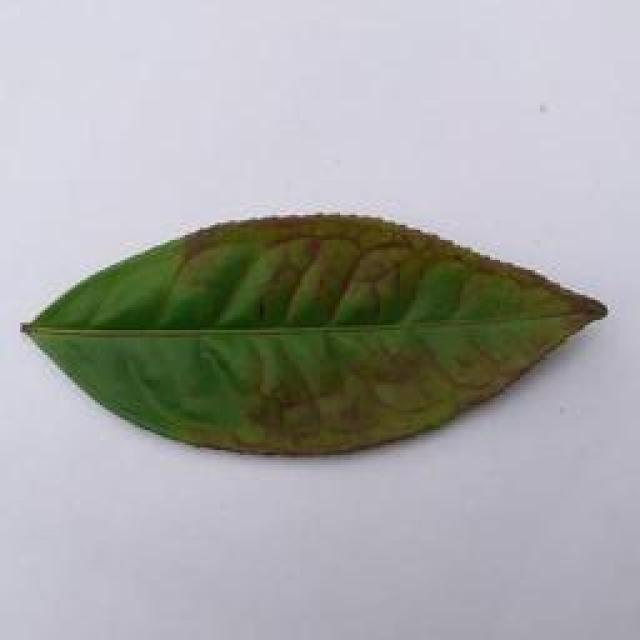Red Leaf Spot: (10, 197, 640, 468)
